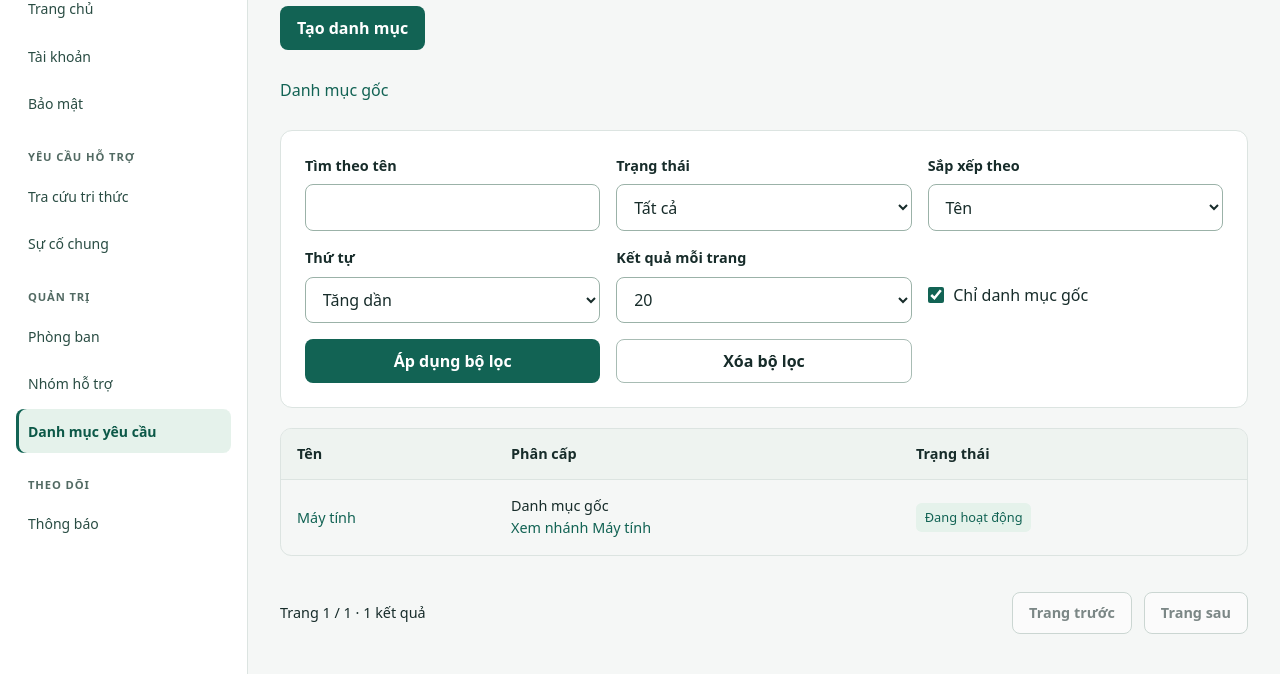
Test: Catalog permission, scoped reads and server queries › browses categories by hasChildren and keeps branch pagination in URL
The image size is (1280, 674).
(page scrolled)
Click the link "Xem nhánh Máy tính": (552, 528) [511,518,651,537]
(page scrolled)
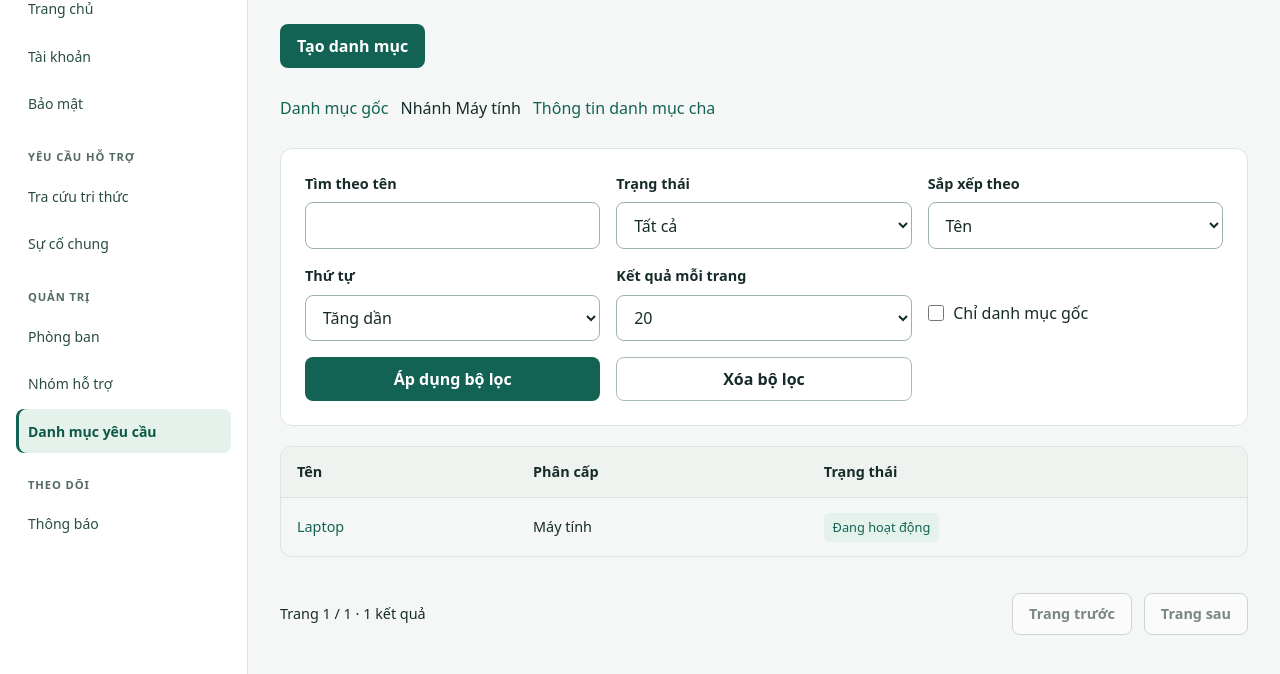
Expected: the link "Laptop" is shown, [297,517,344,536]
Expected: the navigation bar named "Cây danh mục" shows "Máy tính", [456,97,521,119]
